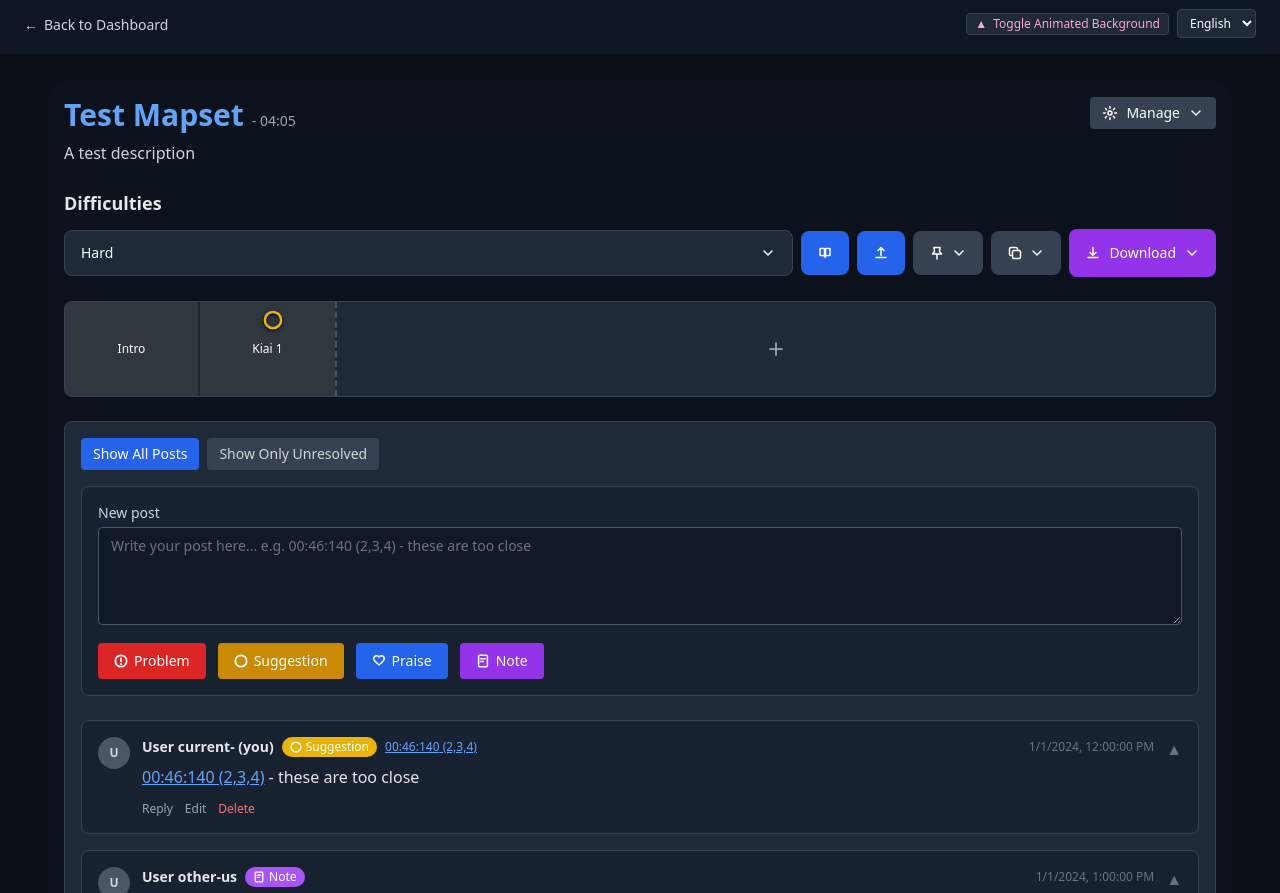
Test: MapsetPage › clicking a timeline marker in section mode switches to the section containing the post
The image size is (1280, 893).
# Enter s1 section view
Click the button with test id "timeline-section-s1". click: {"x": 132, "y": 349}
box: x1=65 y1=302 x2=200 y2=396
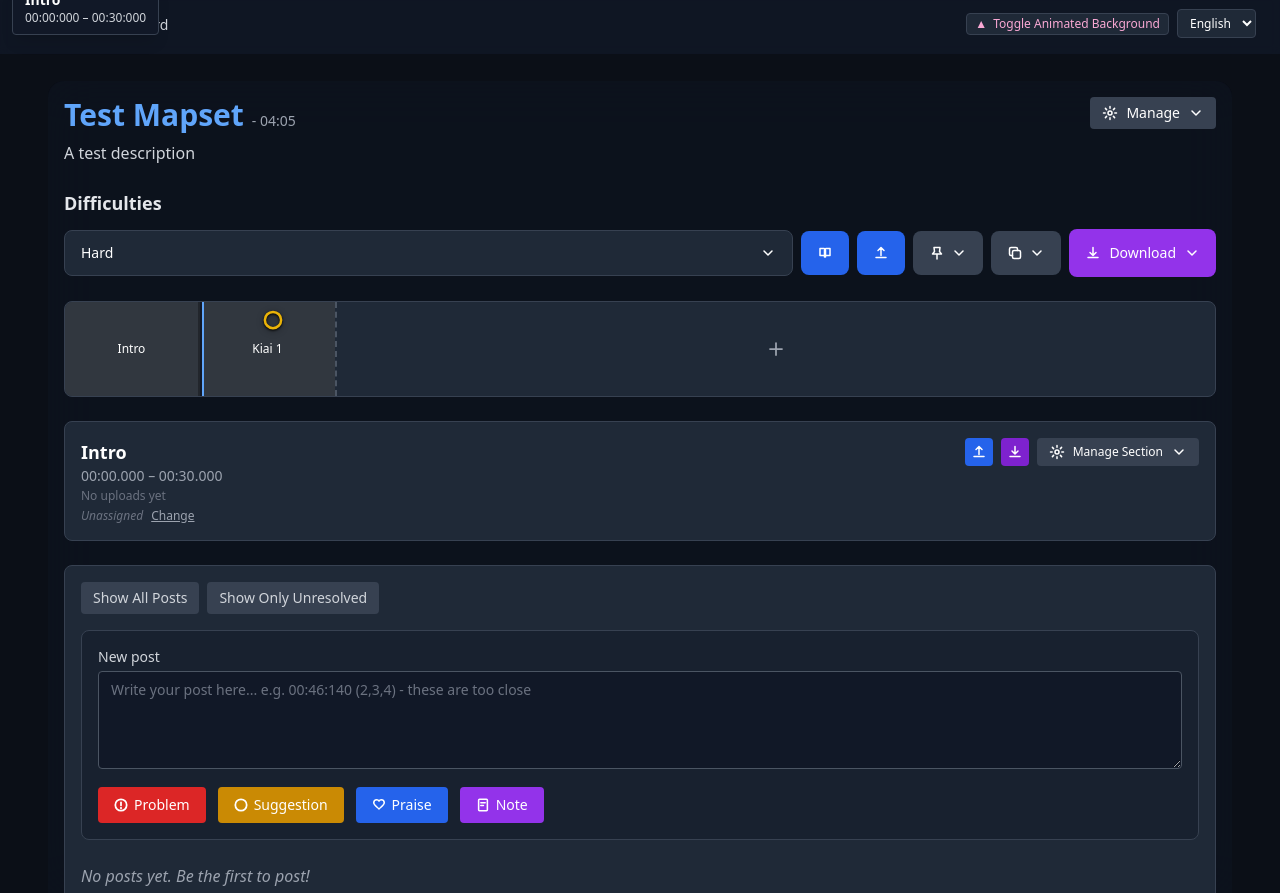
Now the element with test id "section-detail-panel" is shown, box x1=64 y1=421 x2=1216 y2=541
# p1 has timestamp 00:46:140 → 46140ms, which falls in s2 (30000–60000ms)
Click the button with test id "timeline-marker-p1". click: {"x": 272, "y": 320}
box: x1=260 y1=308 x2=284 y2=332
(page scrolled)
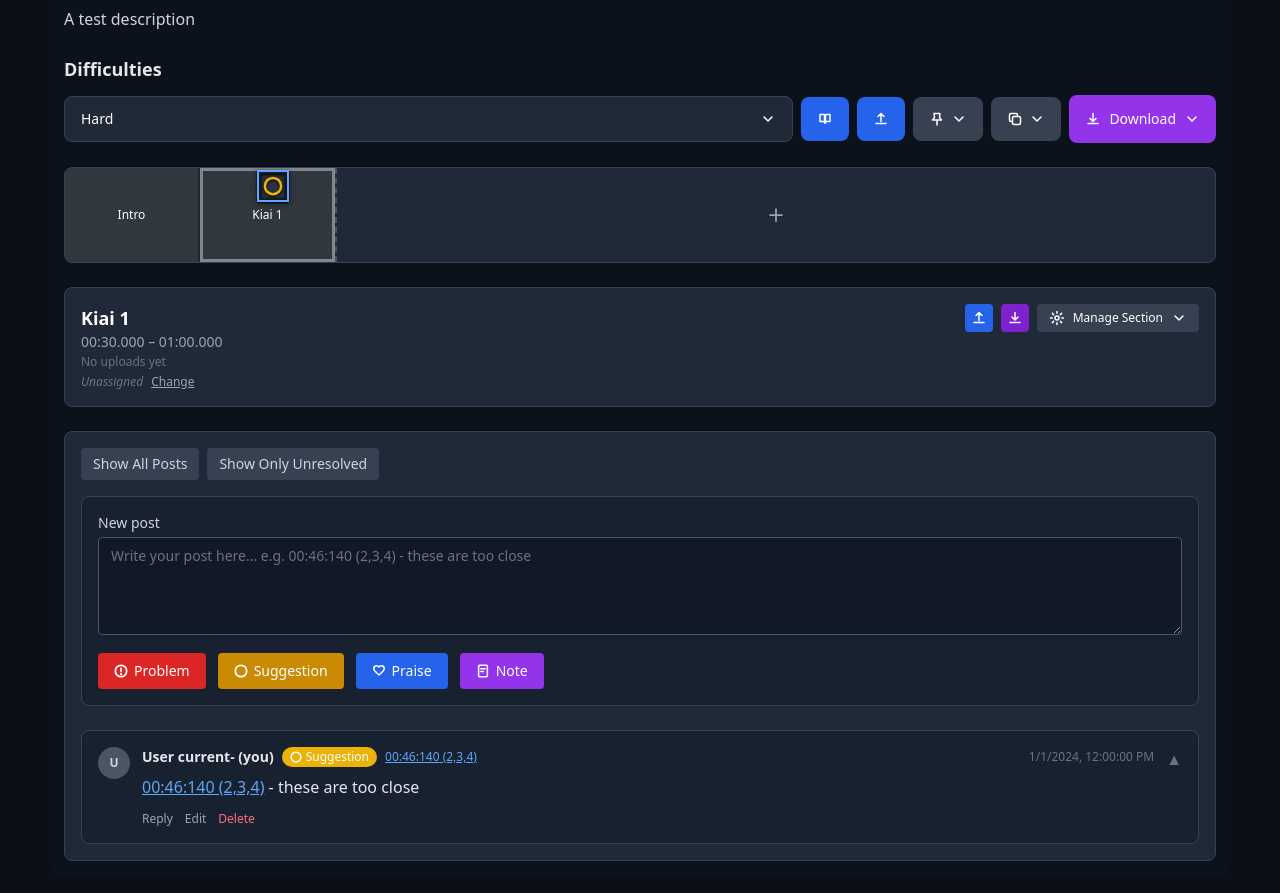
Now the element with test id "section-detail-panel" is shown, box x1=64 y1=287 x2=1216 y2=407
Now the heading "Kiai 1" is shown, box x1=81 y1=306 x2=130 y2=330
Now the element that starts with "User current- (you)" is shown, box x1=81 y1=730 x2=1199 y2=844
